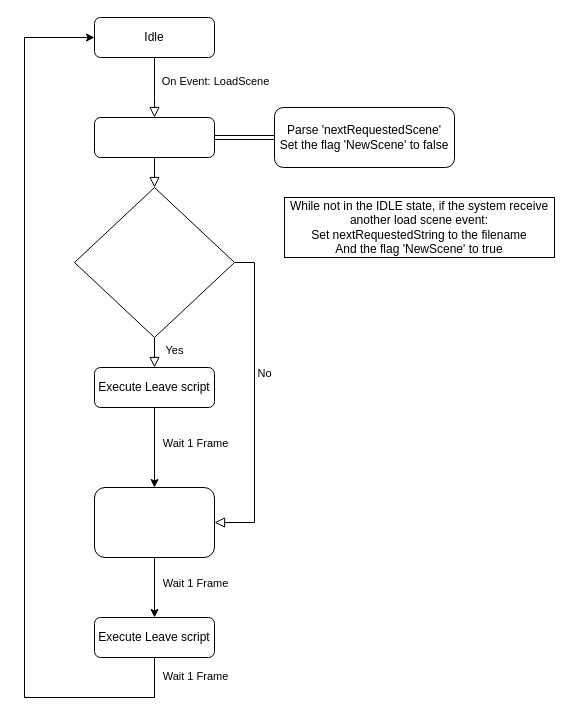
This 572x723 diagram has some shape labels left out. The centre of each missing label's shape, as x and y in pixels:
currentScene.onLeave != __NONE: point (154, 262)
Parse: point (154, 137)
Unload entities from current scene Load entites from next scene: point (154, 522)
